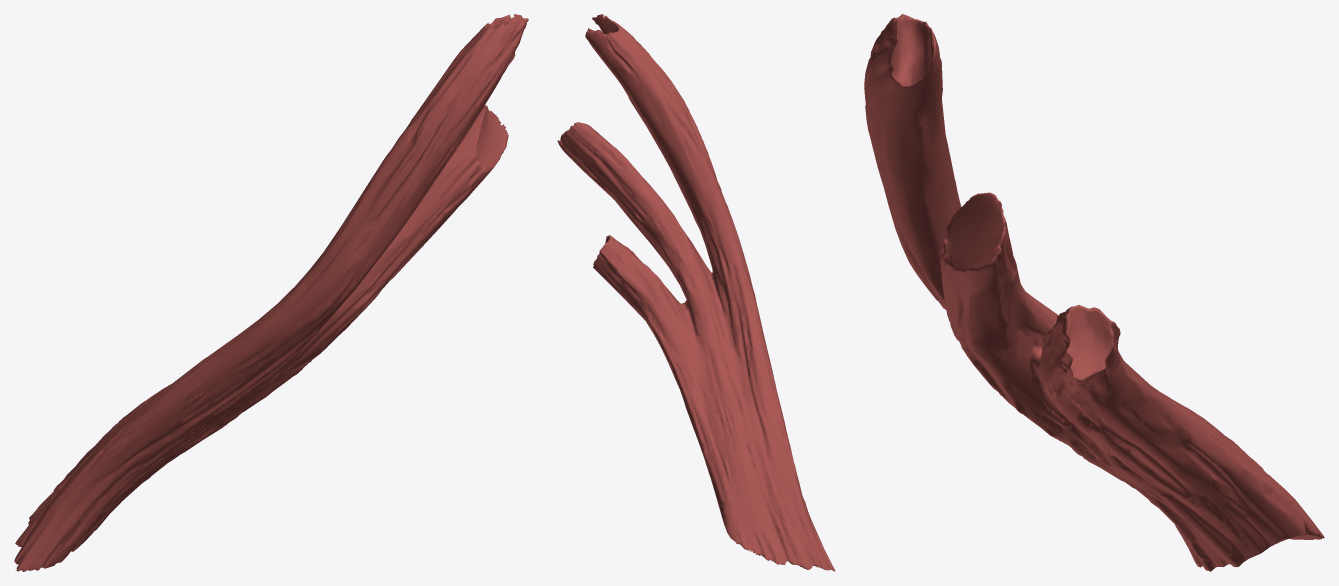
Rendered from FMA13388.glb.
3 renders of one model, left to right at view 1: azimuth 30°, elevation 25°; view 2: azimuth 150°, elevation 25°; view 3: azimuth 270°, elevation 25°, orthographic. The views are drawn at different scales.
Visible parts, largest first — view 1: FMA13388; view 2: FMA13388; view 3: FMA13388.
Part boxes in pixels (x1,y1,x2,y2): FMA13388: (14,14,528,571); FMA13388: (557,14,835,571); FMA13388: (864,14,1324,571).
Bounding box in the file's own units: 0.0429 × 0.0522 × 0.0267.
